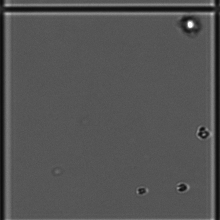Dead Cell: (195, 125, 212, 141), (133, 184, 151, 197), (175, 181, 191, 193)
Living Cell: (179, 14, 204, 43)
